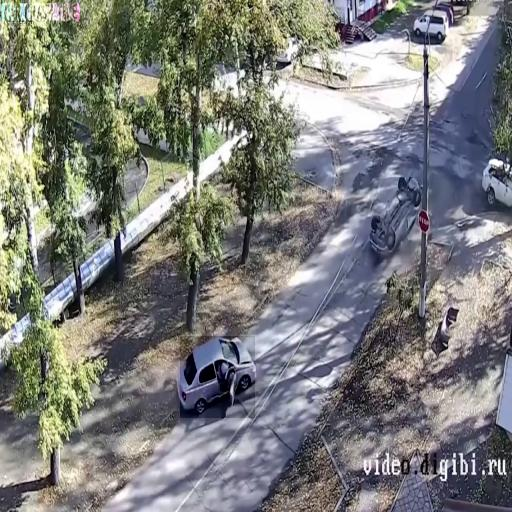小汽车: (180, 336, 255, 418), (372, 178, 418, 262), (484, 156, 510, 206), (414, 8, 450, 42)
